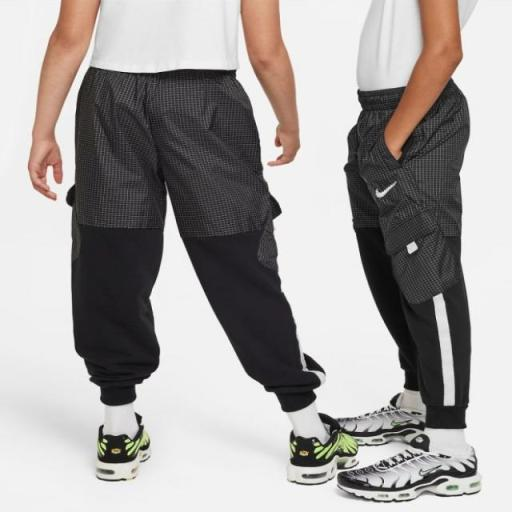Nike: (366, 180, 404, 201)
